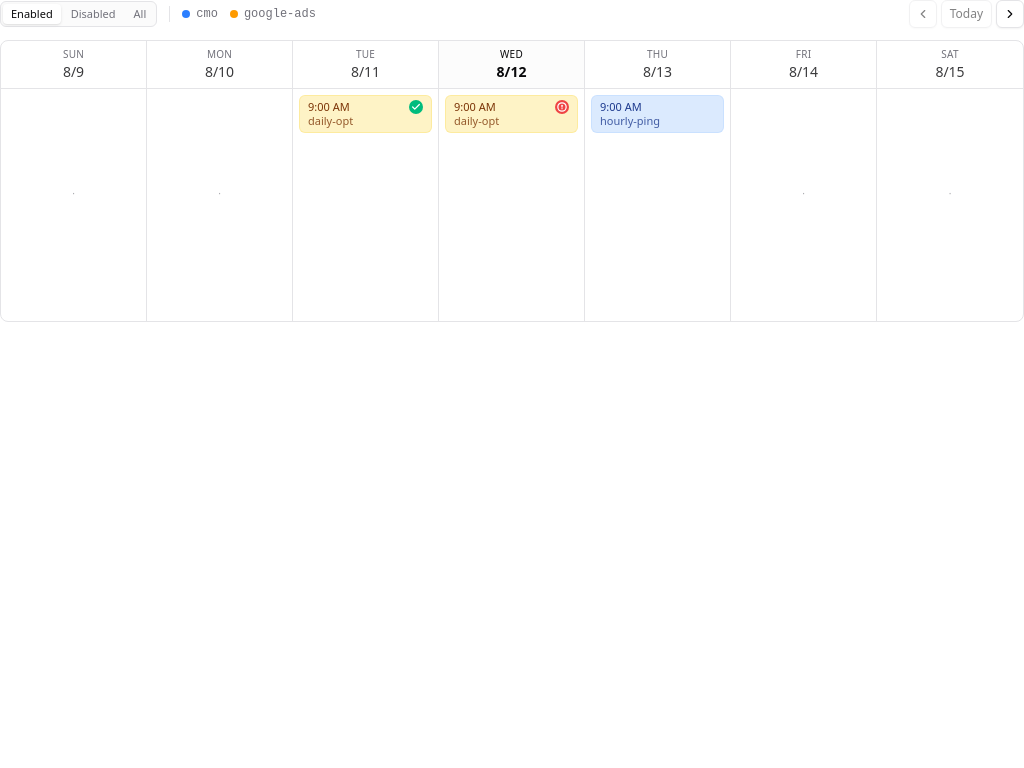
Test: CronCalendar — occurrence detail dialog › shows 'scheduled' badge for future occurrences
The image size is (1024, 768).
Click the button "9:00 AM hourly-ping".
click(658, 114)  # box [591,95,724,132]
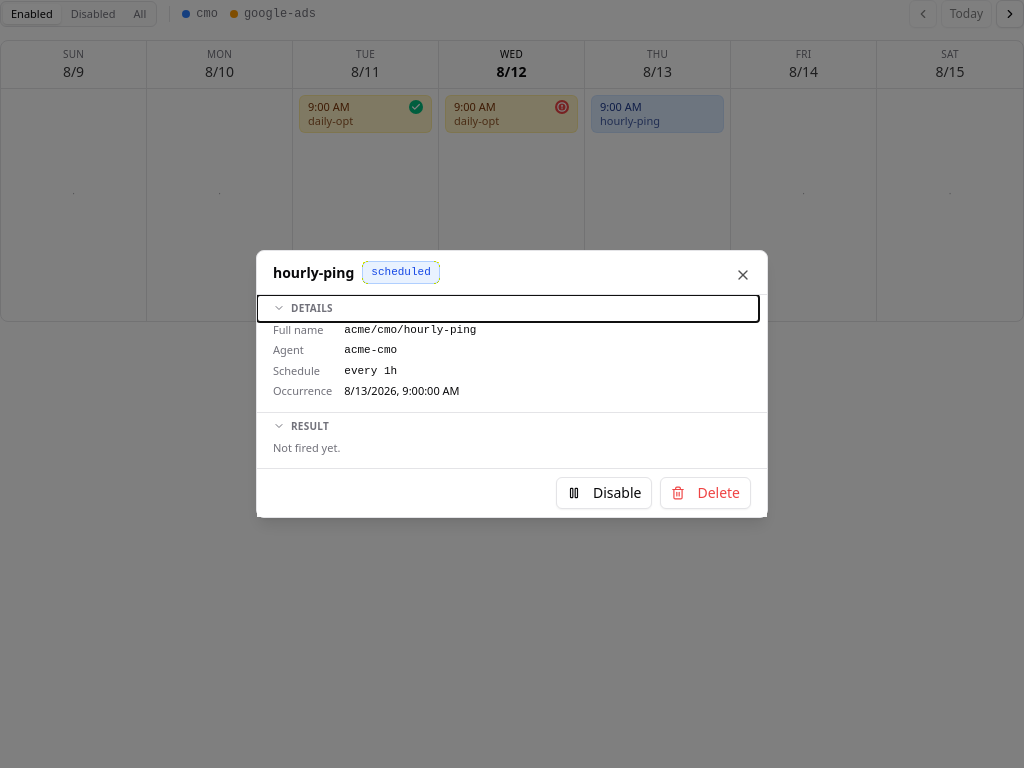
Check: the text "scheduled" is shown, box [362,261,440,284]
